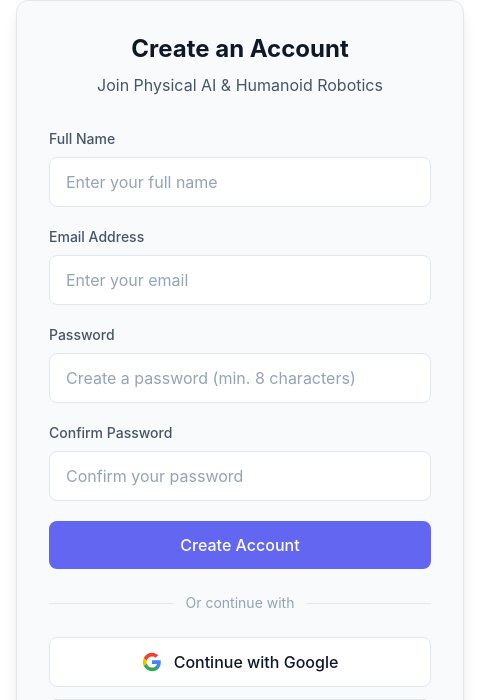
Test case: RegisterForm › Form Validation › should clear field error when user starts typing
// Submit empty form to trigger errors
Click the button "Create Account" at (240, 545), box top-left (49, 521), bottom-right (431, 569)
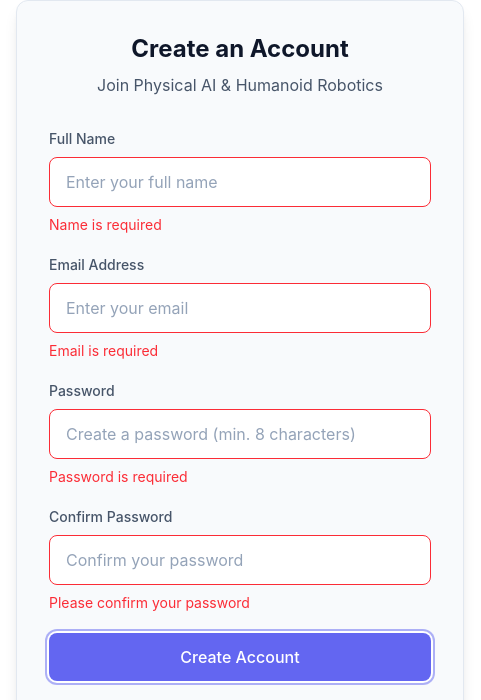
expect the text "Name is required" is shown: met, box top-left (49, 216), bottom-right (162, 233)
// Type in the name field
Type "Test" into the field labelled "Full Name" at (240, 182), box top-left (49, 157), bottom-right (431, 207)
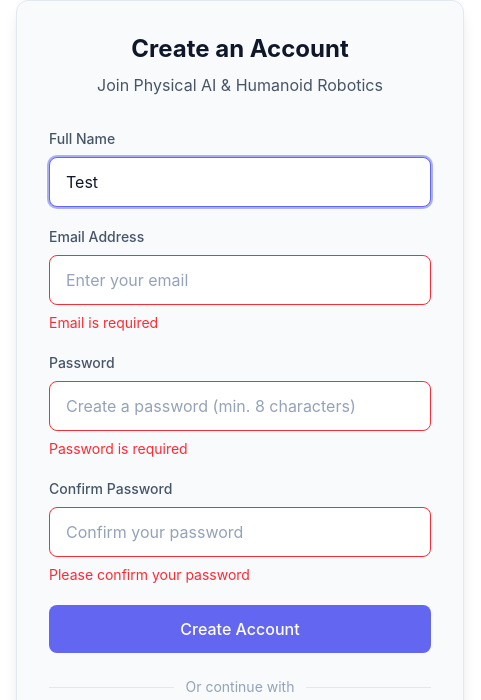
expect the text "Name is required" is gone: met
